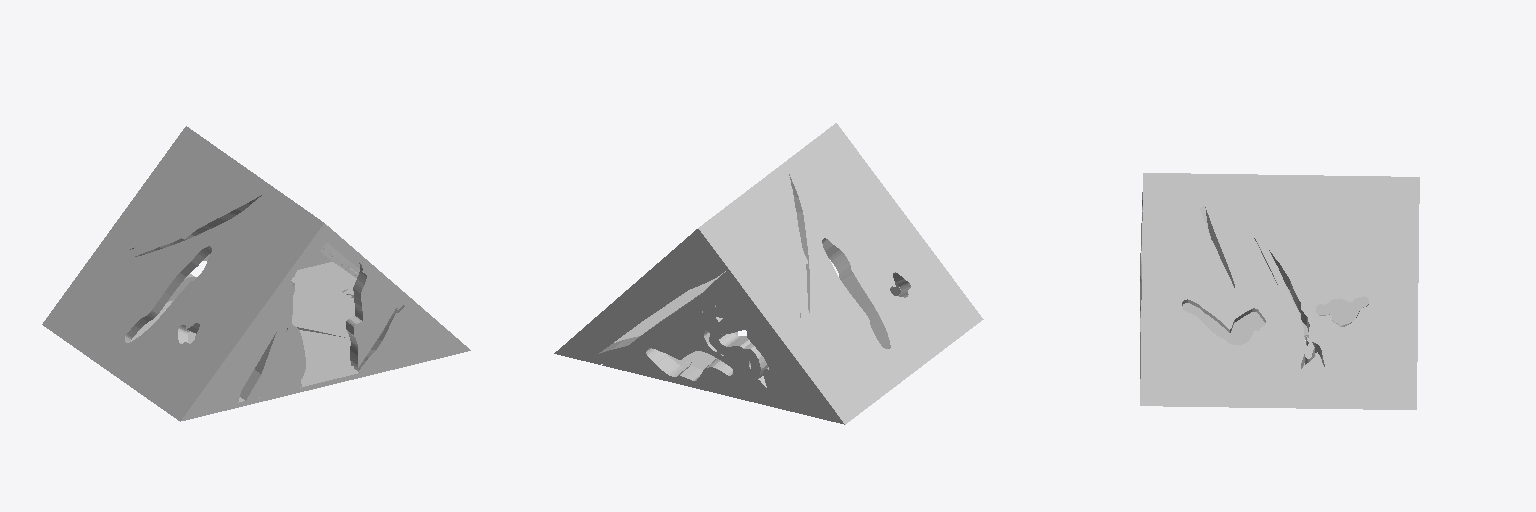
File: tent.obj
3 renders of one model, left to right at view 1: azimuth 30°, elevation 25°; view 2: azimuth 150°, elevation 25°; view 3: azimuth 270°, elevation 25°, orthographic.
Parts seen in each view (by area): view 1: obj_0; view 2: obj_0; view 3: obj_0.
Boxes of the visible parts, x1,y1,x2,y2 form: obj_0: [42, 126, 470, 421]; obj_0: [554, 123, 983, 424]; obj_0: [1140, 173, 1419, 409].
Bounding box in the file's own units: 62 × 33.84 × 51.54.